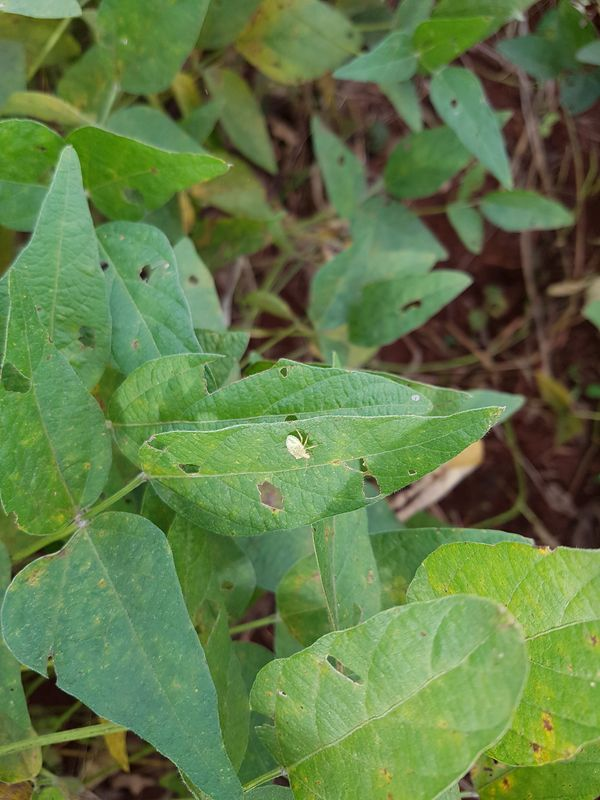Euschistus_heros_ninfa: (277, 423, 324, 467)
